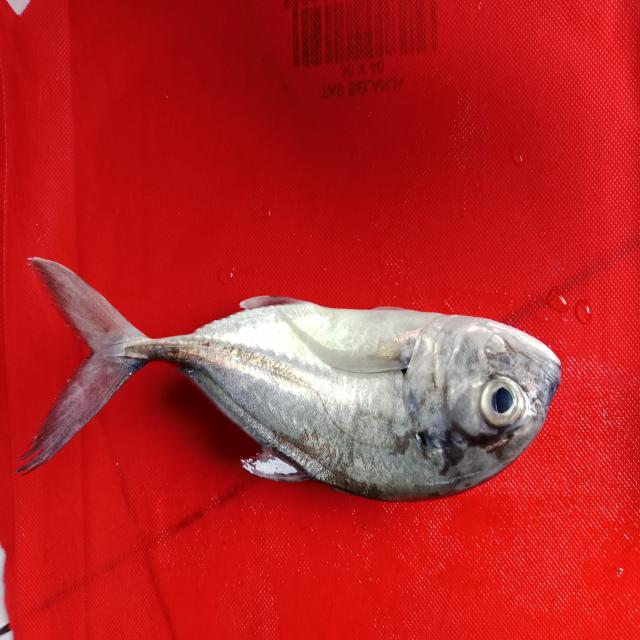ikan: (9, 234, 575, 510)
